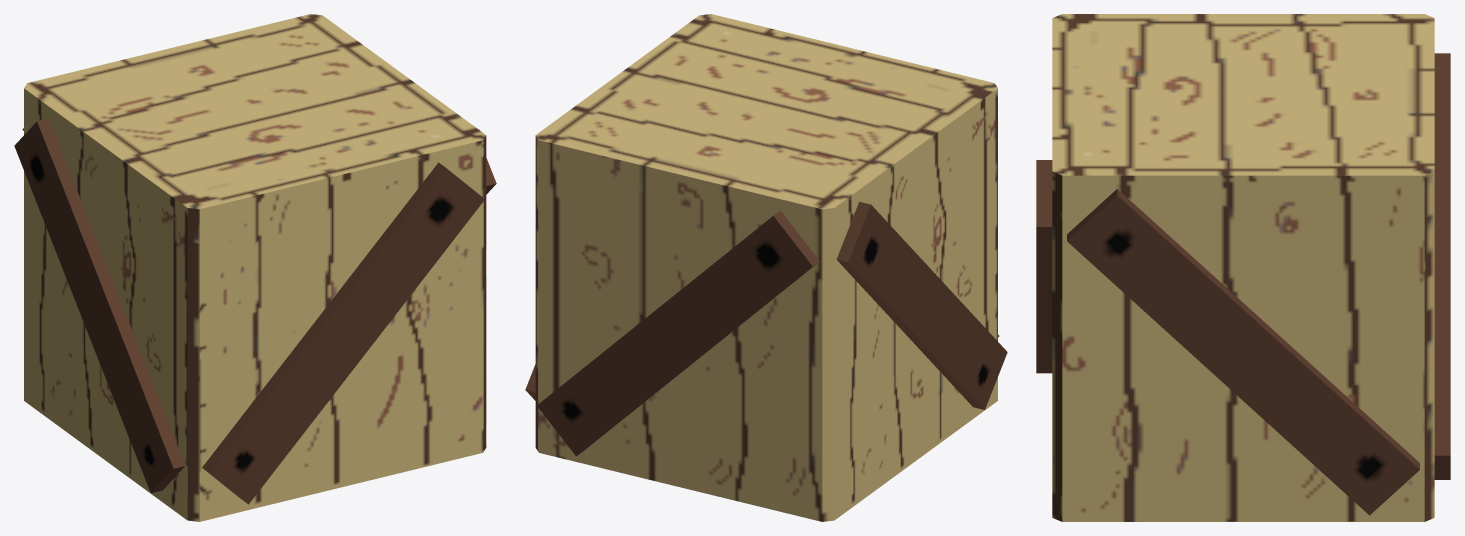
The model's file is ящики 1.fbx.
The picture shows the model from 3 angles, left to right: view 1: azimuth 30°, elevation 25°; view 2: azimuth 150°, elevation 25°; view 3: azimuth 270°, elevation 25°; orthographic projection. The views are drawn at different scales.
Visible parts, largest first — view 1: Куб; view 2: Куб; view 3: Куб.
Boxes of the visible parts, bbox=[...] form: Куб: bbox=[14, 14, 496, 521]; Куб: bbox=[525, 14, 1007, 521]; Куб: bbox=[1036, 14, 1450, 521].
Bounding box in the file's own units: 2.16 × 2 × 2.17.
